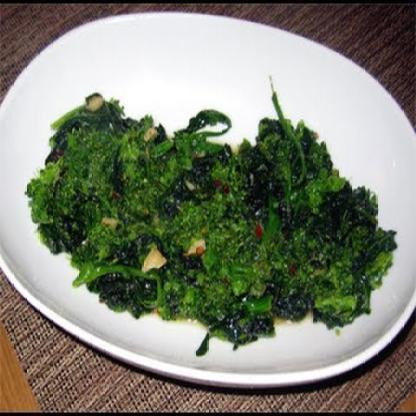broccoli: (24, 87, 402, 359)
